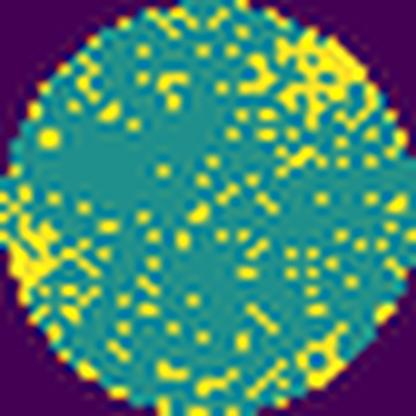Edge-Loc: (274, 29, 368, 125), (0, 221, 100, 298), (300, 323, 352, 385)
